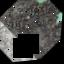Purslane: (0, 14, 42, 64)
